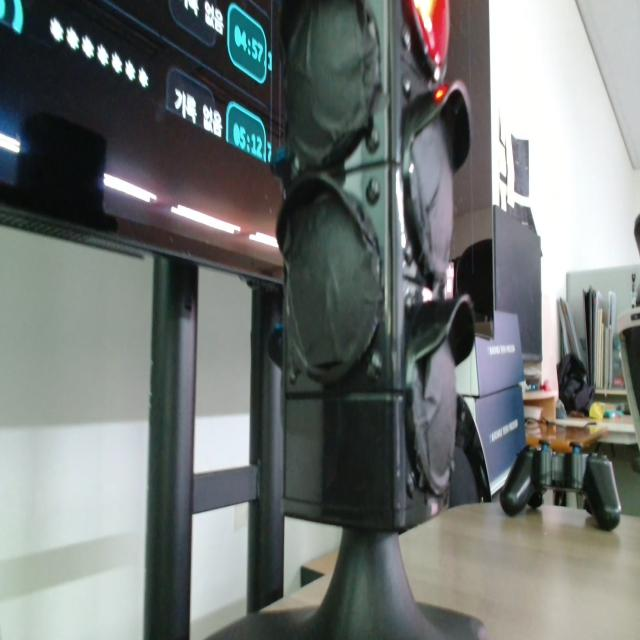green_light: (227, 4, 268, 84), (226, 102, 268, 161)
